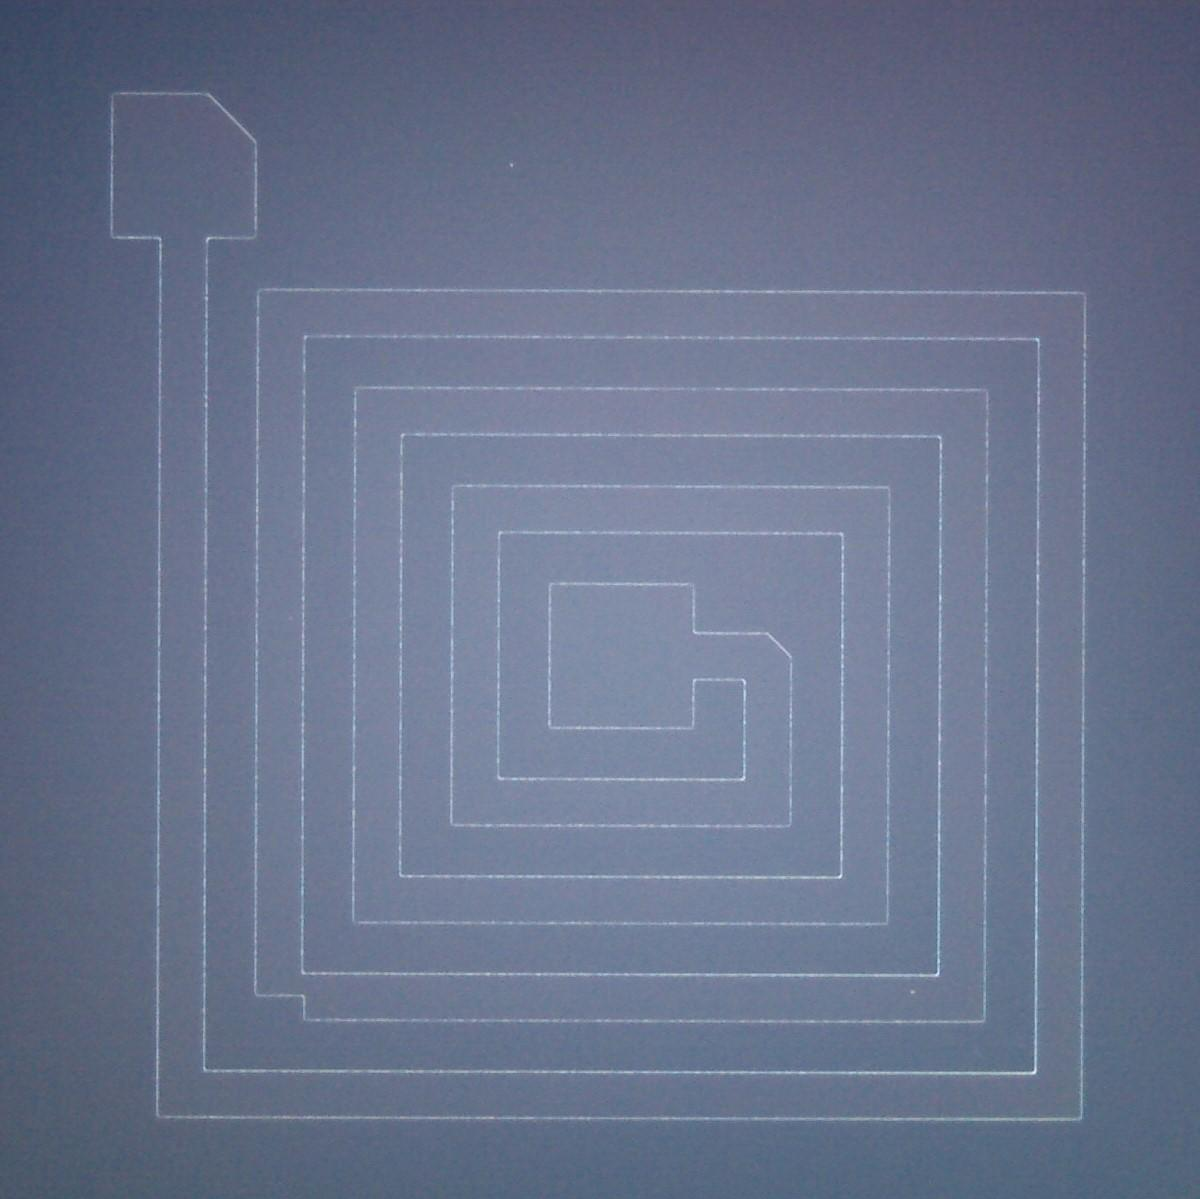cut: (188, 75, 280, 183), (243, 949, 334, 1035), (751, 615, 811, 683)
s_point: (507, 160, 516, 169), (909, 988, 918, 996)
